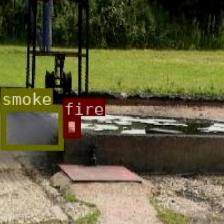fire: (62, 115, 78, 137)
smoke: (0, 105, 62, 148)
